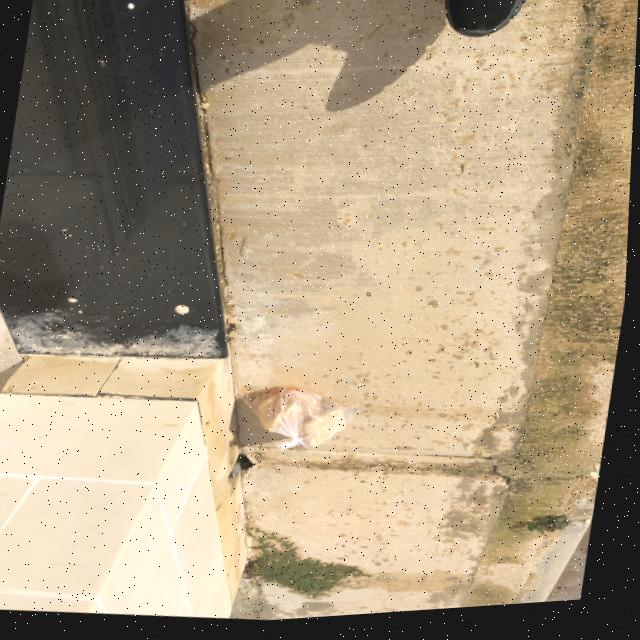Organic Waste -White Bag-: (227, 377, 372, 476)
